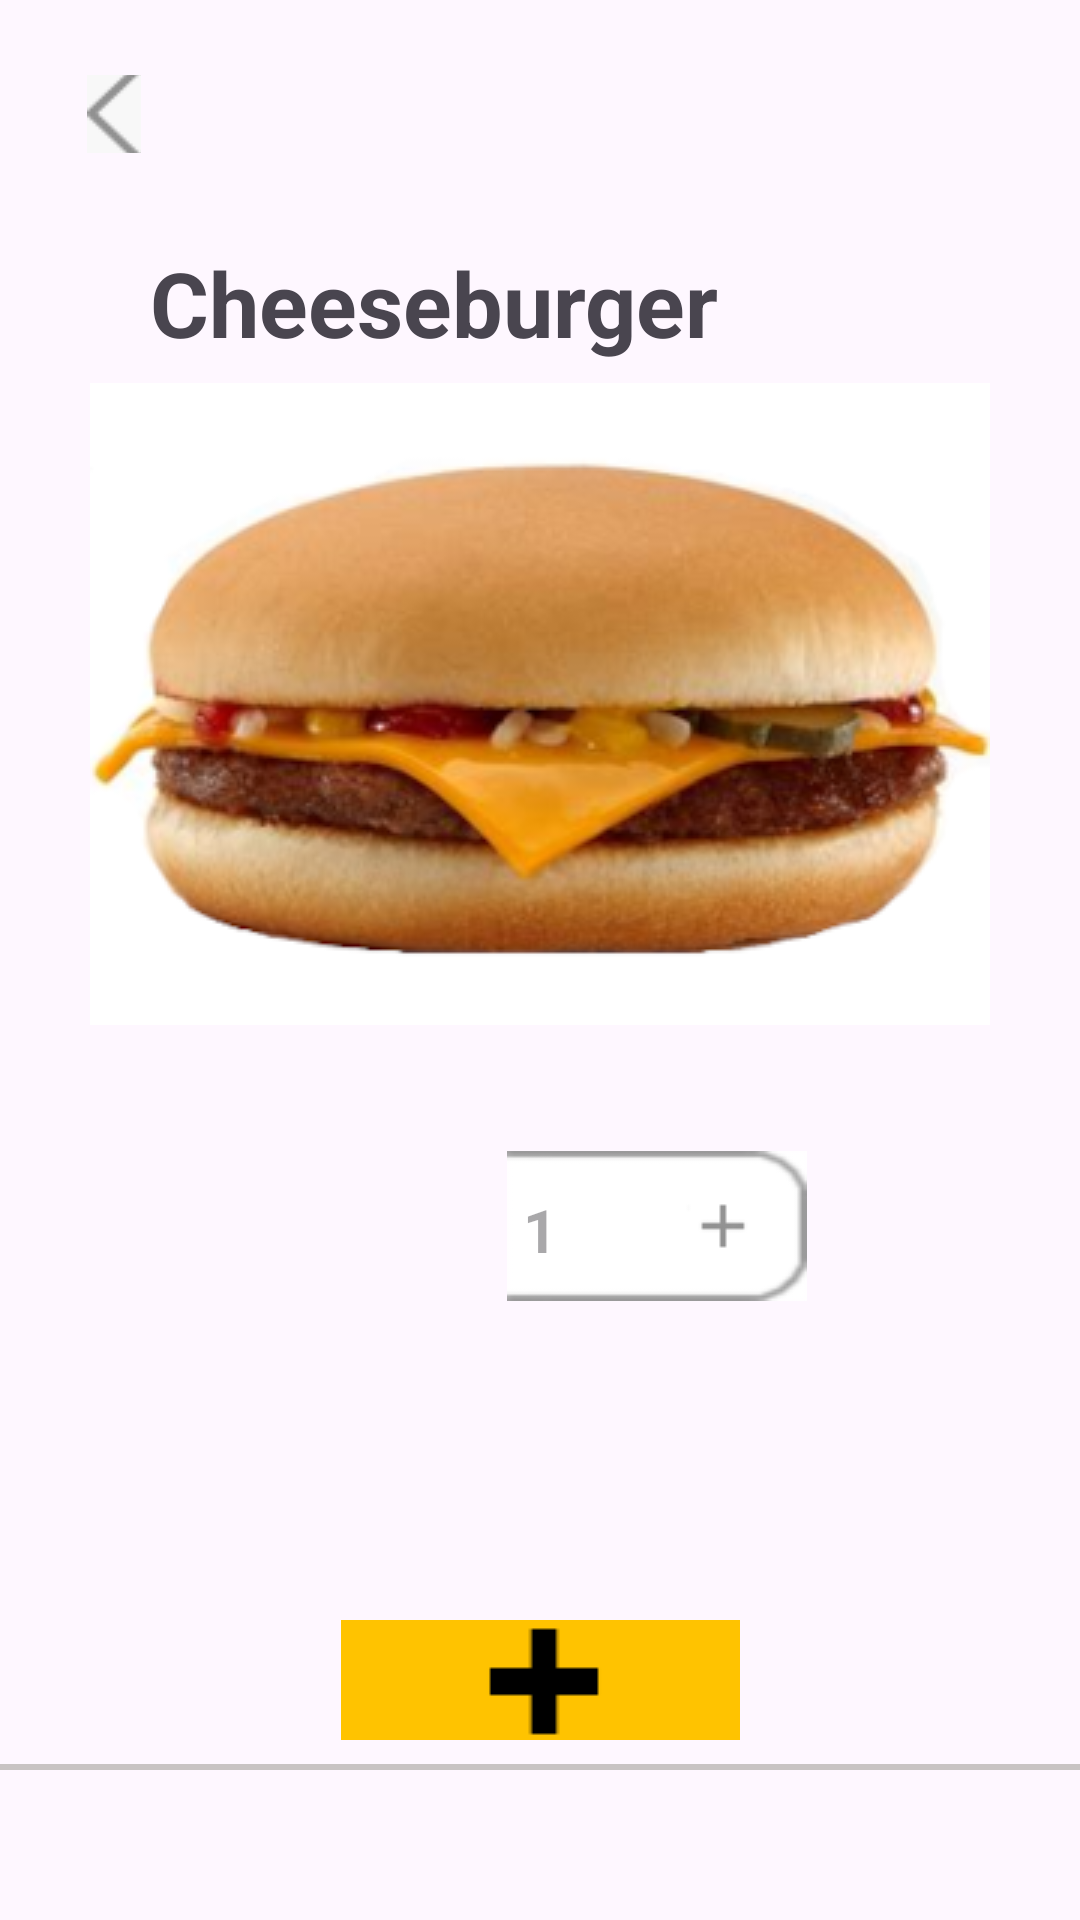

Point at icon controls on the screen. Image size 1080*1920, points as [x,y].
back: [114,114]
